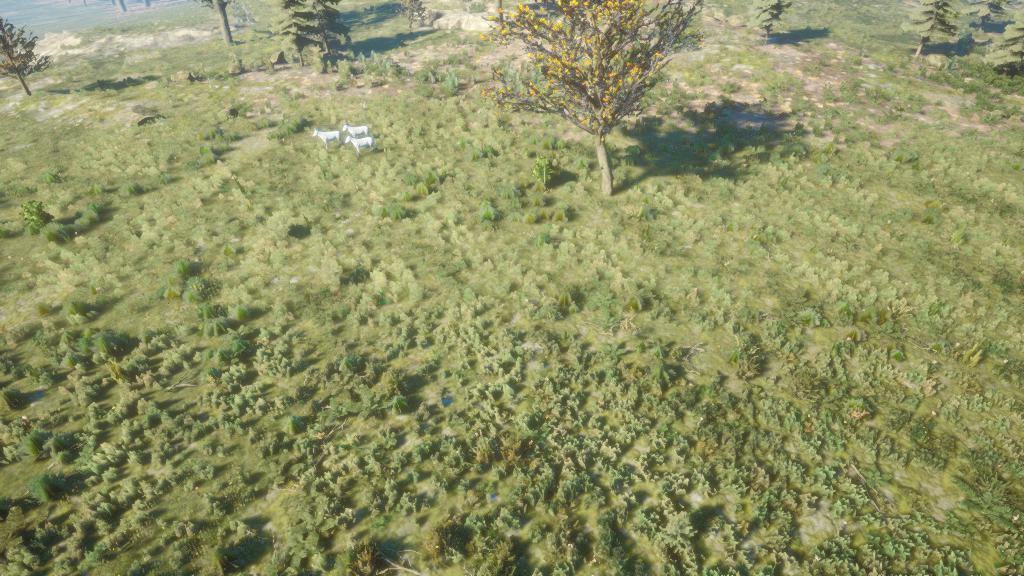zebra: (310, 126, 346, 154), (342, 133, 381, 158), (340, 120, 374, 141)
